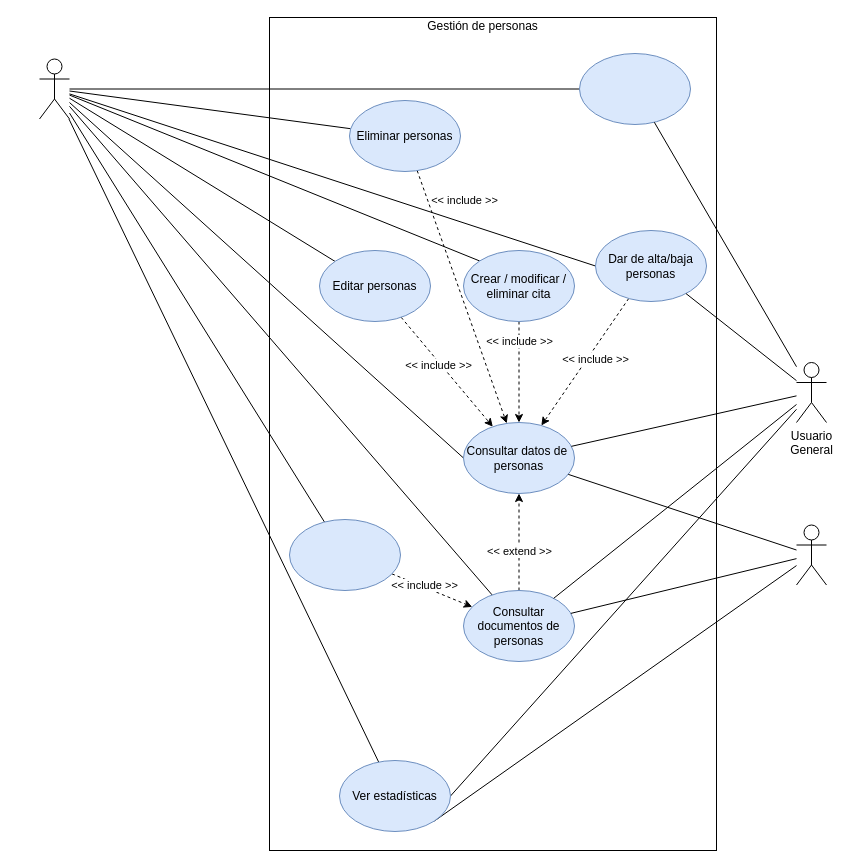
The diagram is 850 pixels wide and 868 high, and some of its shapes have lost their labels. The centre of each missing label's shape, as x and y in pixels:
"Añadir o eliminar documentos de personas" goes at (x=344, y=554).
"Añadir personas" goes at (x=634, y=88).
"Usuario Administrador" goes at (x=54, y=88).
"Usuario Invitado" goes at (x=811, y=554).
